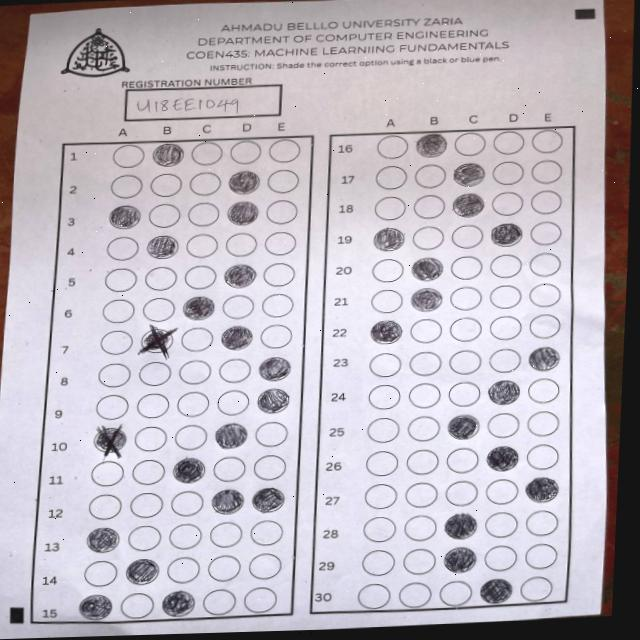bubble: (123, 557, 161, 586), (250, 485, 287, 514), (524, 475, 561, 504), (255, 386, 291, 415), (478, 576, 514, 605), (219, 323, 254, 352), (210, 487, 246, 515), (77, 593, 113, 621), (160, 589, 196, 617), (486, 378, 522, 406), (443, 511, 479, 539), (442, 545, 478, 573), (257, 354, 292, 382), (171, 456, 206, 484), (85, 525, 120, 553), (485, 444, 520, 472), (451, 191, 487, 218), (222, 262, 259, 288), (213, 422, 247, 450), (226, 169, 261, 196), (445, 413, 480, 440), (226, 199, 260, 226), (146, 233, 180, 260), (369, 318, 403, 345), (527, 345, 561, 372), (107, 204, 142, 230), (410, 256, 445, 282), (409, 286, 444, 312), (415, 132, 448, 159), (151, 142, 185, 168), (182, 294, 216, 320), (372, 226, 406, 252), (490, 221, 524, 247), (452, 161, 485, 187)
